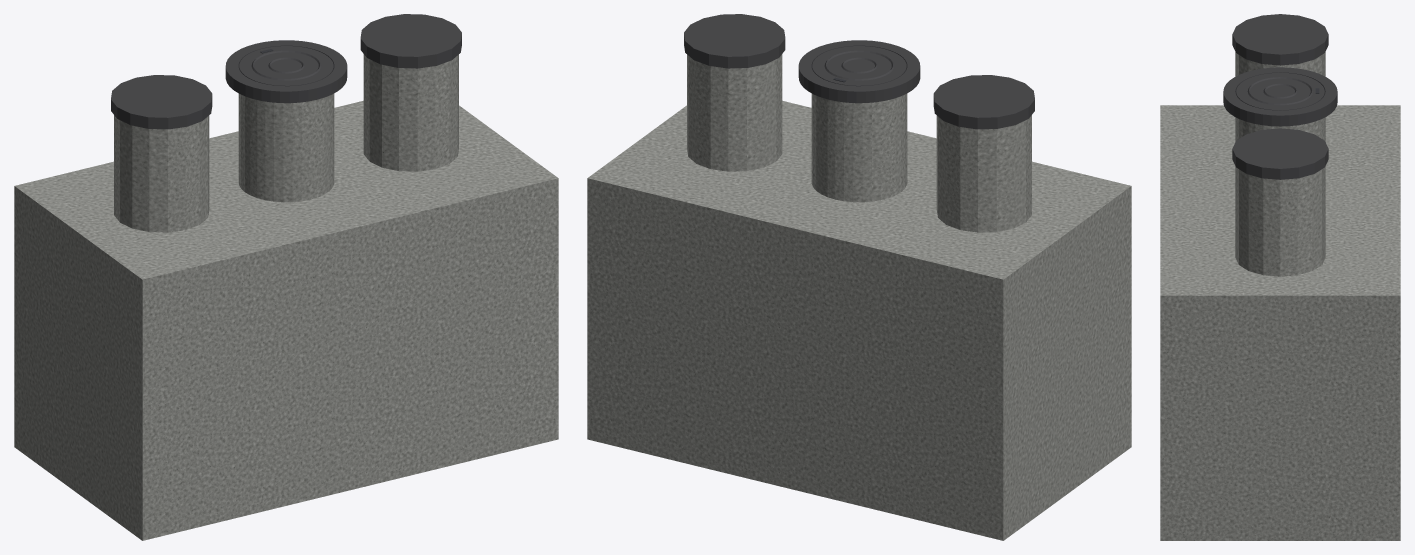
3 views of the same model, side by side, from view 1: azimuth 30°, elevation 25°; view 2: azimuth 150°, elevation 25°; view 3: azimuth 270°, elevation 25° (orthographic). The views are drawn at different scales.
Parts seen in each view (by area): view 1: accessShaft=true;coverDepth=0.8;height=1.8;installation=unde (×2); view 2: accessShaft=true;coverDepth=0.8;height=1.8;installation=unde (×2); view 3: accessShaft=true;coverDepth=0.8;height=1.8;installation=unde (×2).
Part boxes in pixels (<box>): accessShaft=true;coverDepth=0.8;height=1.8;installation=unde (×2): <box>14,14,558,540</box>; accessShaft=true;coverDepth=0.8;height=1.8;installation=unde (×2): <box>587,14,1131,540</box>; accessShaft=true;coverDepth=0.8;height=1.8;installation=unde (×2): <box>1160,14,1400,540</box>.
Size of the model in its own units: 3 by 1.6 by 2.61.
Materials: 3 (1 with a texture image).
